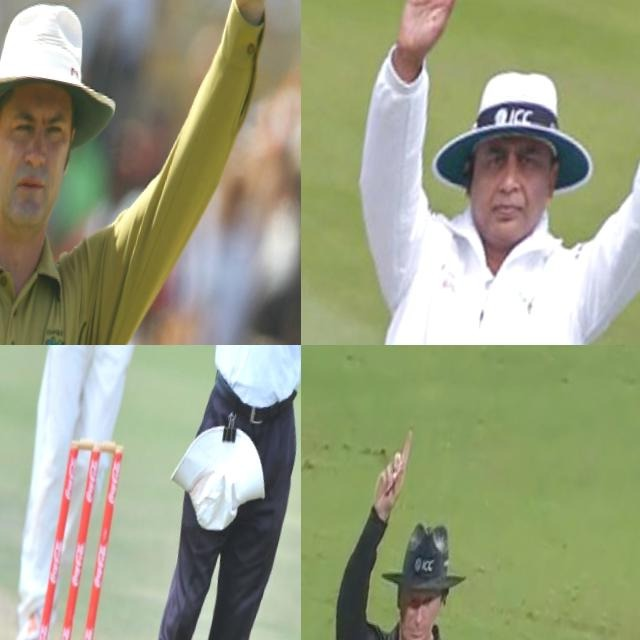Out: (301, 409, 541, 640)
Six: (301, 0, 640, 345), (0, 0, 301, 345)
Wide: (48, 345, 301, 536)
